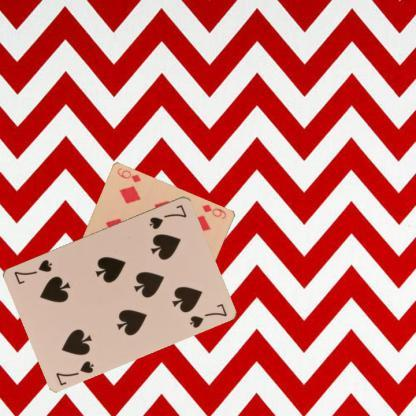6d: (198, 202, 228, 220)
7s: (146, 202, 188, 231), (53, 358, 95, 387)
